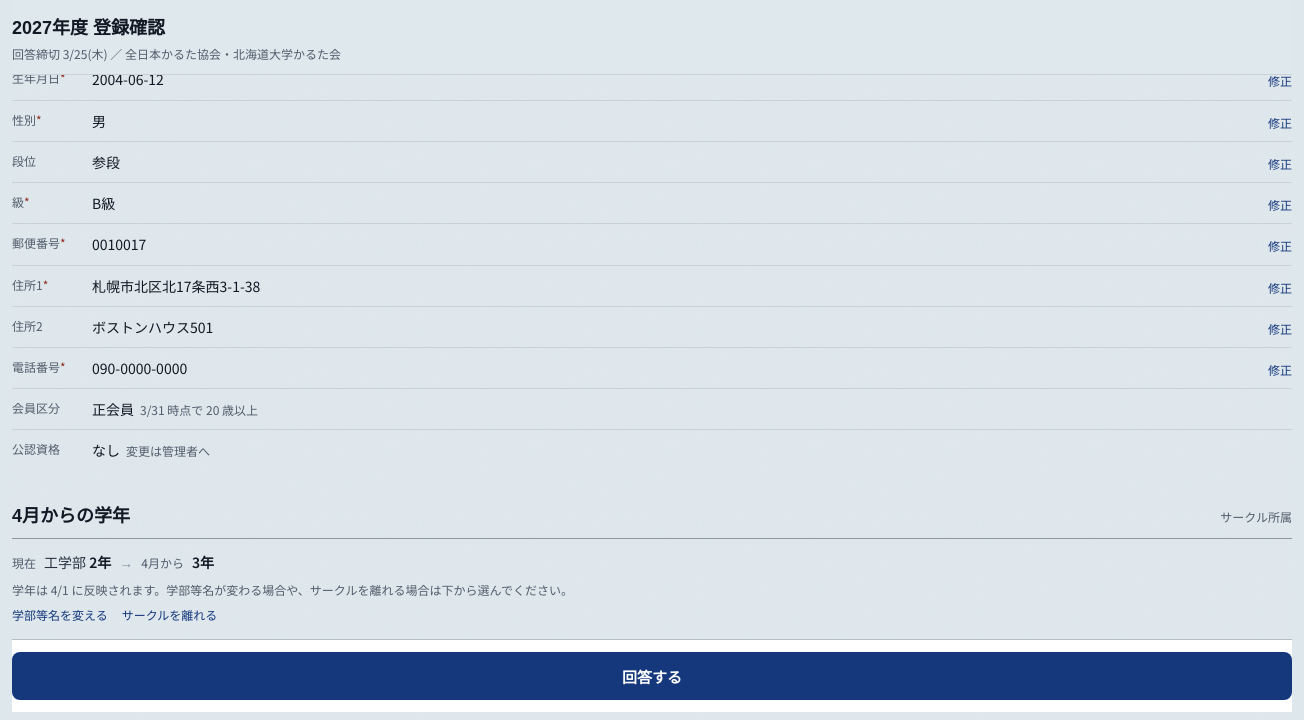
Scenario: 最終学年で3択（AC-11） › 非最終学年でも「学部等名を変える」を開くと 既定／自分で選ぶ／離れる の3択になる
(page scrolled)
Click the button "学部等名を変える" at (60, 615), box [12,607,108,623]
(page scrolled)
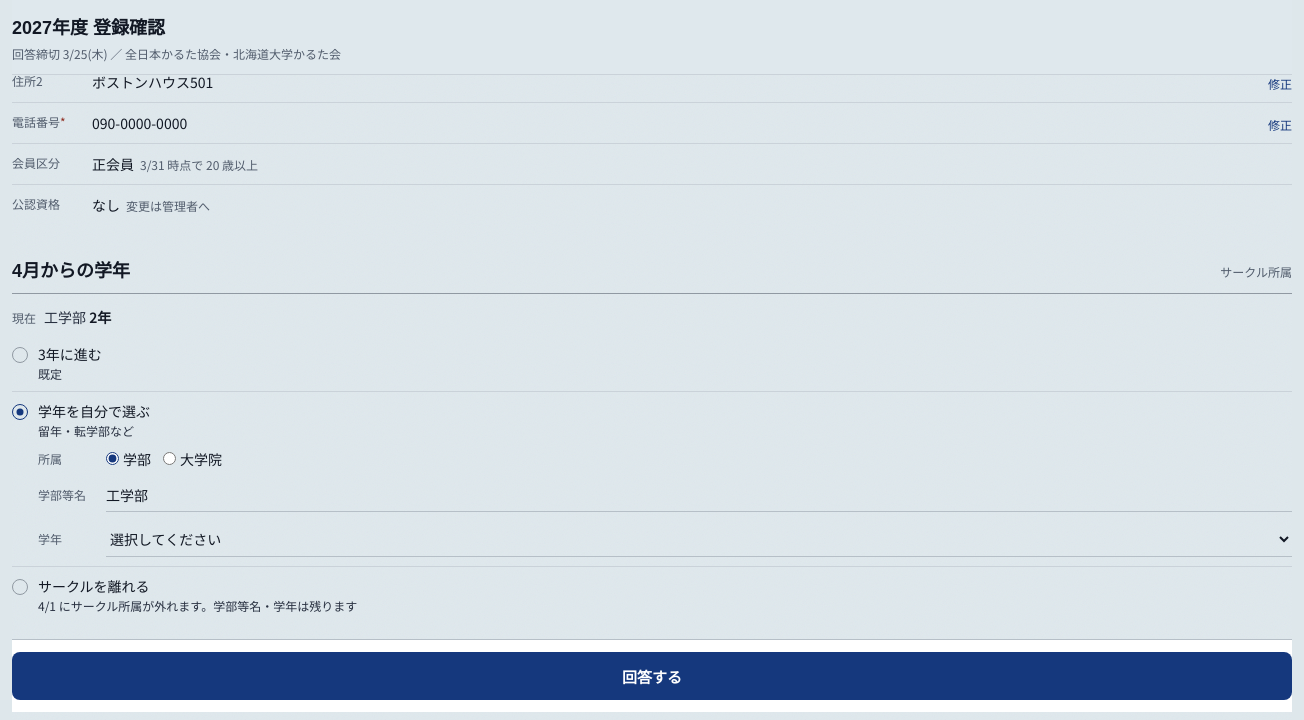
Expected: the text "サークルを離れる" is shown, [38,576,150,596]
Expected: the text "3年に進む" is shown, [38,344,102,364]
Expected: the text "学年を自分で選ぶ" is shown, [38,401,150,421]
